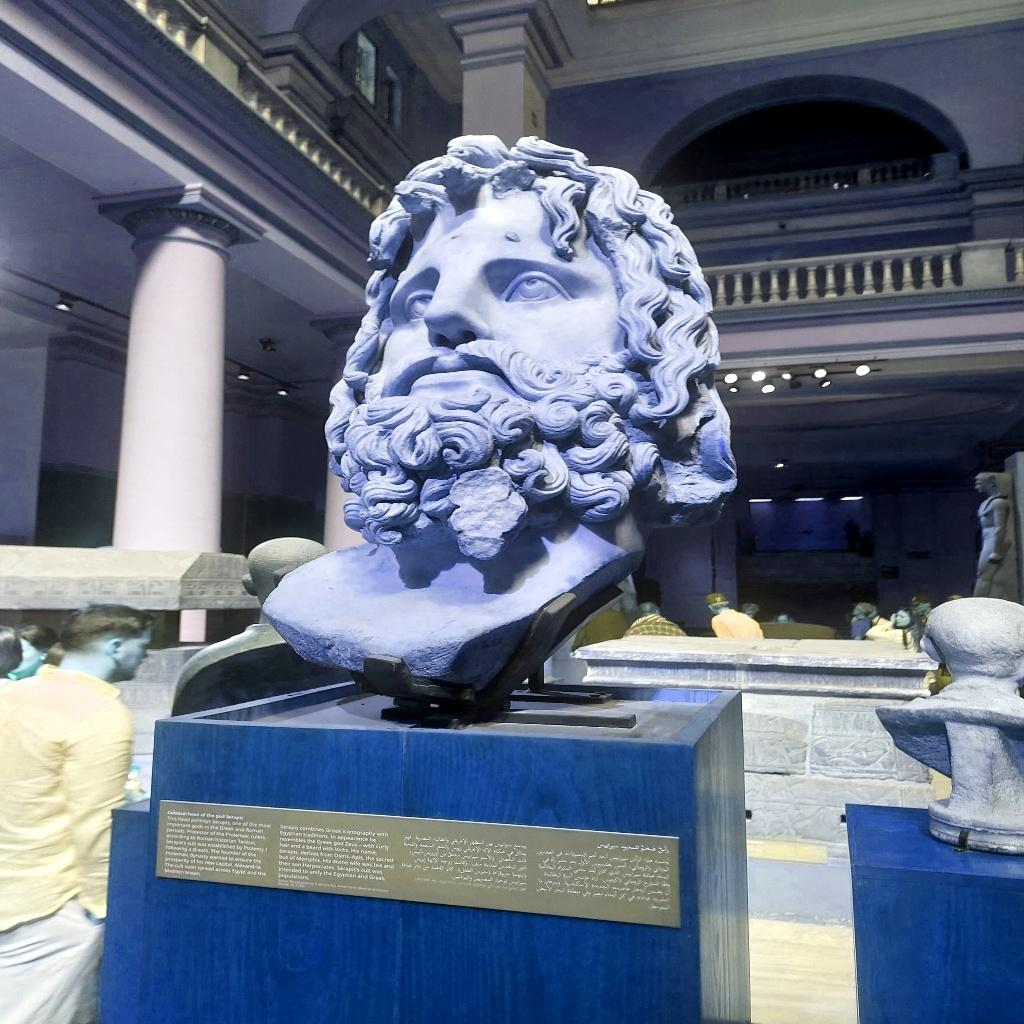Clossal Head of the god Serapis: (255, 130, 742, 718)
